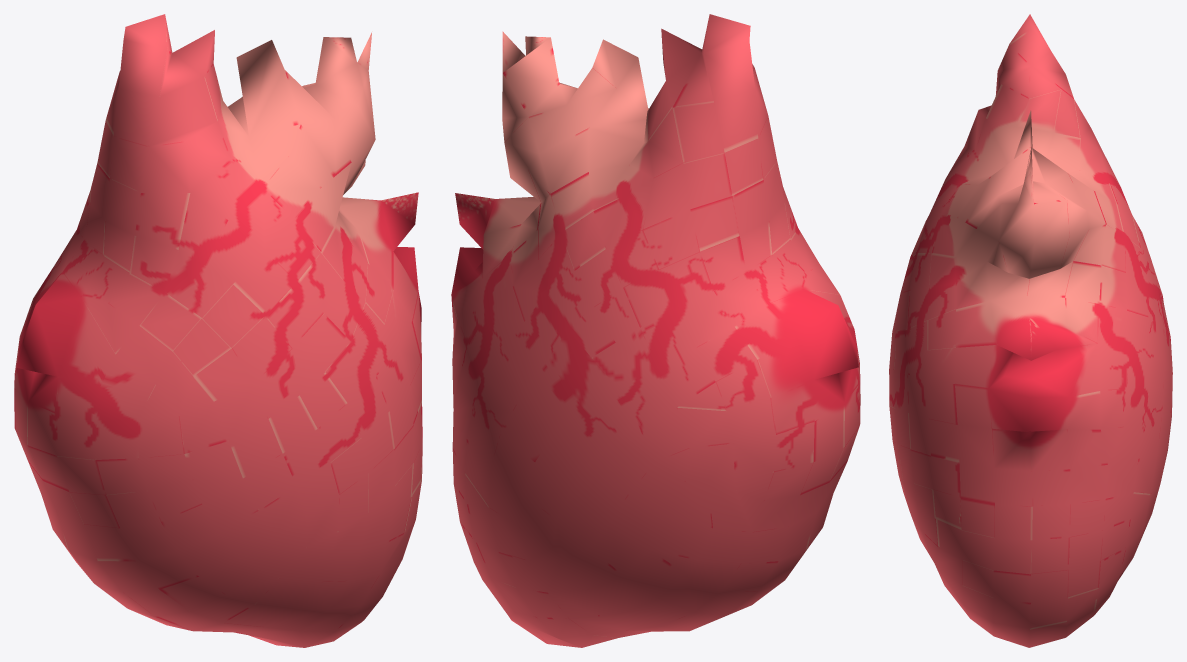
Rendered from heart_glb.gltf.
The picture shows the model from 3 angles, left to right: view 1: azimuth 30°, elevation 25°; view 2: azimuth 150°, elevation 25°; view 3: azimuth 270°, elevation 25°; orthographic projection. The views are drawn at different scales.
Visible parts, largest first — view 1: heart_low; view 2: heart_low; view 3: heart_low.
Boxes of the visible parts, x1,y1,x2,y2 form: heart_low: [14, 14, 422, 647]; heart_low: [451, 14, 860, 647]; heart_low: [889, 14, 1172, 647].
Bounding box in the file's own units: 4.62 × 7.24 × 3.34.
1 material, 1 textured.
